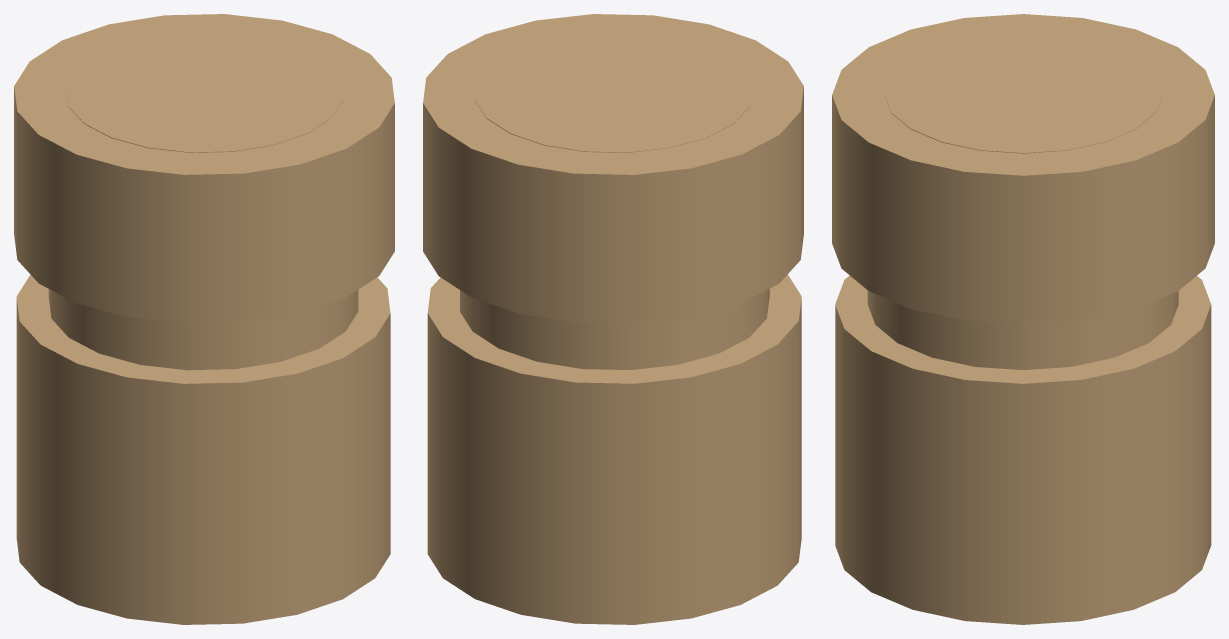
3 renders of one model, left to right at view 1: azimuth 30°, elevation 25°; view 2: azimuth 150°, elevation 25°; view 3: azimuth 270°, elevation 25°, orthographic.
Parts seen in each view (by area): view 1: 丸1_白; view 2: 丸1_白; view 3: 丸1_白.
Boxes of the visible parts, x1,y1,x2,y2 form: 丸1_白: (14,14,394,624); 丸1_白: (423,14,803,624); 丸1_白: (832,14,1214,624).
Size of the model in its own units: 0.0261 by 0.034 by 0.0261.
